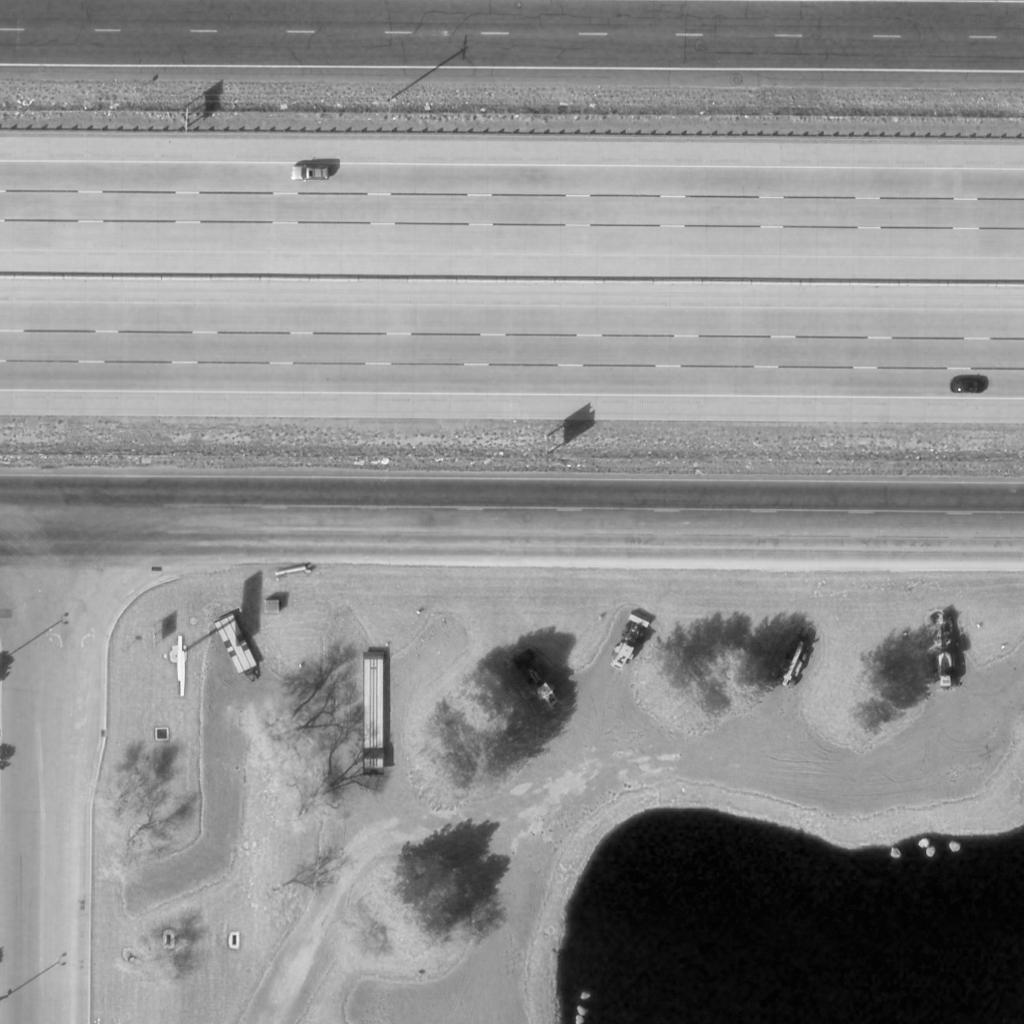vehicle: (512, 650, 566, 708), (607, 614, 655, 674), (774, 625, 818, 689), (927, 612, 959, 690), (949, 375, 989, 393), (291, 165, 331, 181)
